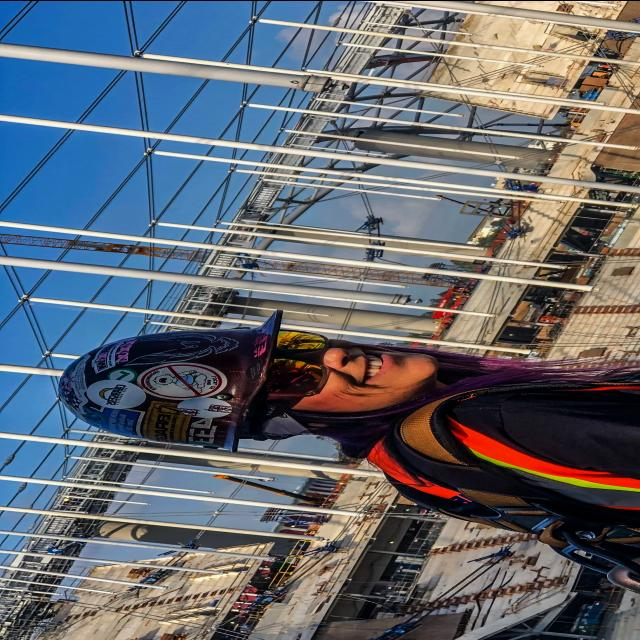Hard Hat: (56, 307, 284, 456)
Reflective Vest: (365, 350, 640, 520)
Safety Glasses: (250, 327, 333, 436)
